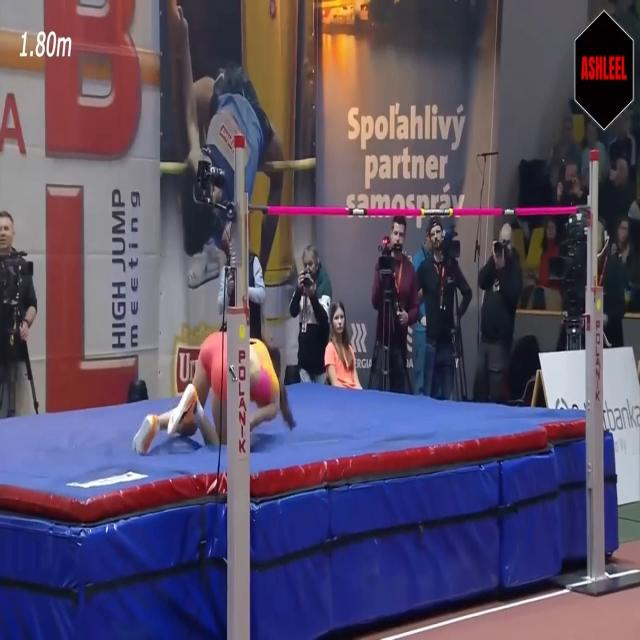land: (133, 332, 298, 450)
